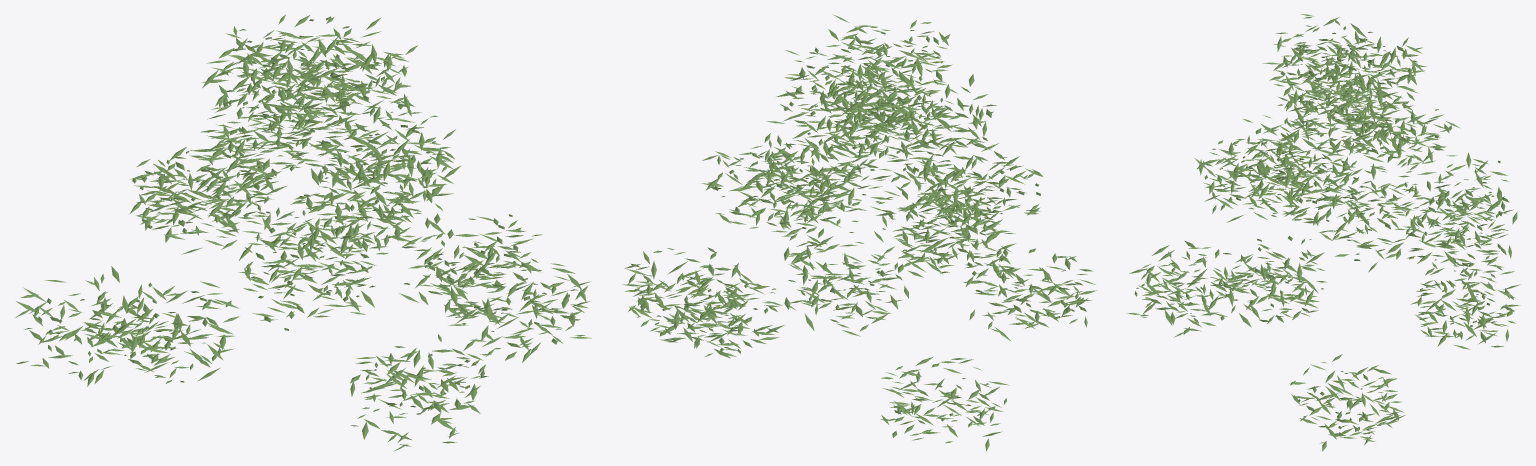
The model's file is teaching3-vegetation-06-near.glb.
3 renders of one model, left to right at view 1: azimuth 30°, elevation 25°; view 2: azimuth 150°, elevation 25°; view 3: azimuth 270°, elevation 25°, orthographic. The views are drawn at different scales.
Parts seen in each view (by area): view 1: vegetation cedar leaves; view 2: vegetation cedar leaves; view 3: vegetation cedar leaves.
Boxes of the visible parts, x1,y1,x2,y2 form: vegetation cedar leaves: (15,14,591,451); vegetation cedar leaves: (622,14,1096,451); vegetation cedar leaves: (1127,14,1520,451).
Bounding box in the file's own units: 12.26 × 8.76 × 10.01.
